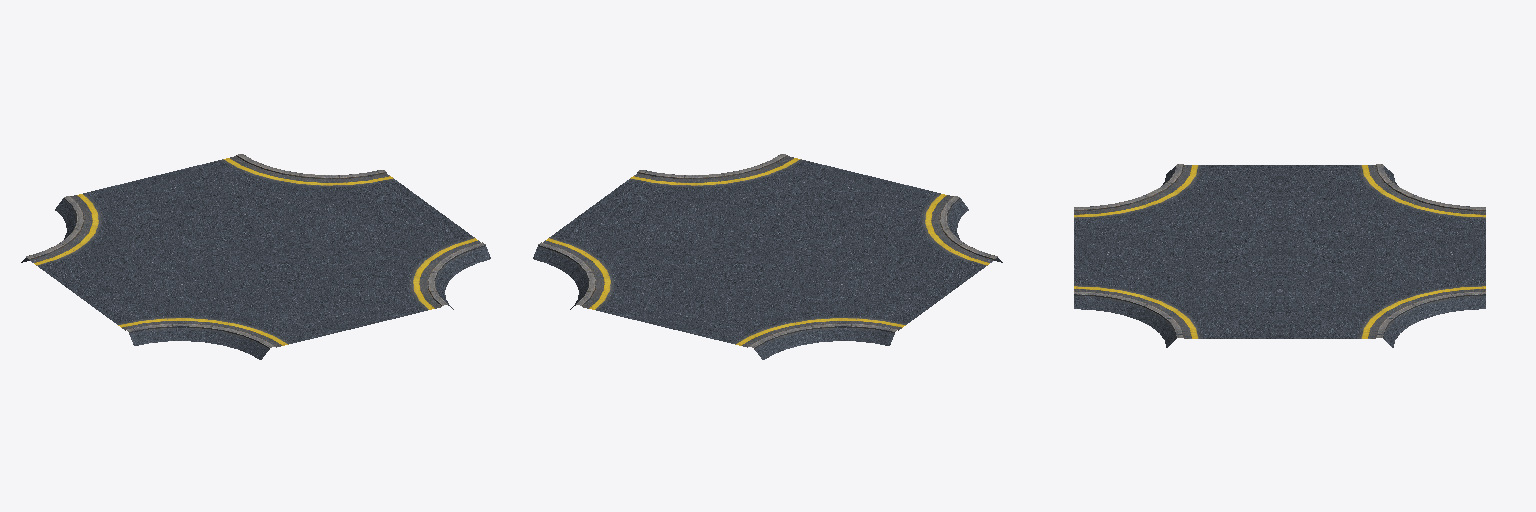
The picture shows the model from 3 angles: view 1: azimuth 30°, elevation 25°; view 2: azimuth 150°, elevation 25°; view 3: azimuth 270°, elevation 25°; orthographic projection.
Bounding box in the file's own units: 16 × 0.4482 × 16.
1 materials, 1 textured.